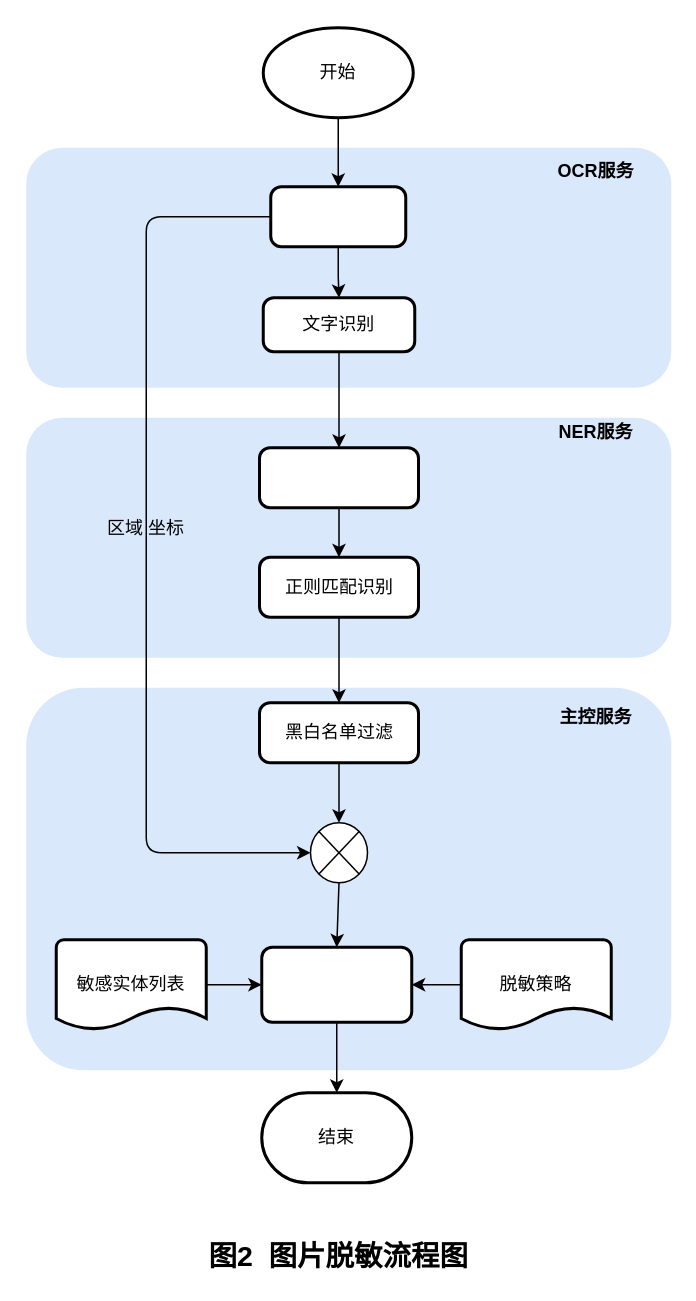
The diagram is 696 pixels wide and 1301 high, and some of its shapes have lost their labels. The shapes that lost their labels are listed below. From the top down, each one's centre as x and y in pixels, then its label:
At (337,216): "区域识别".
At (338,477): "NLP实体识别".
At (336,984): "区域脱敏".
